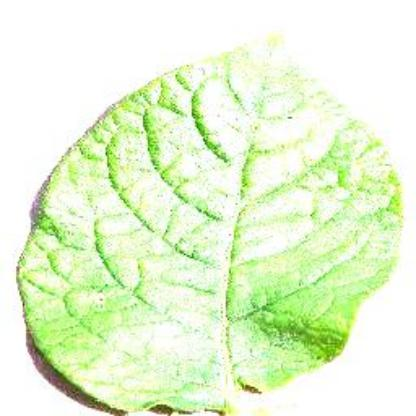Healthy-plant: (16, 36, 408, 416)
